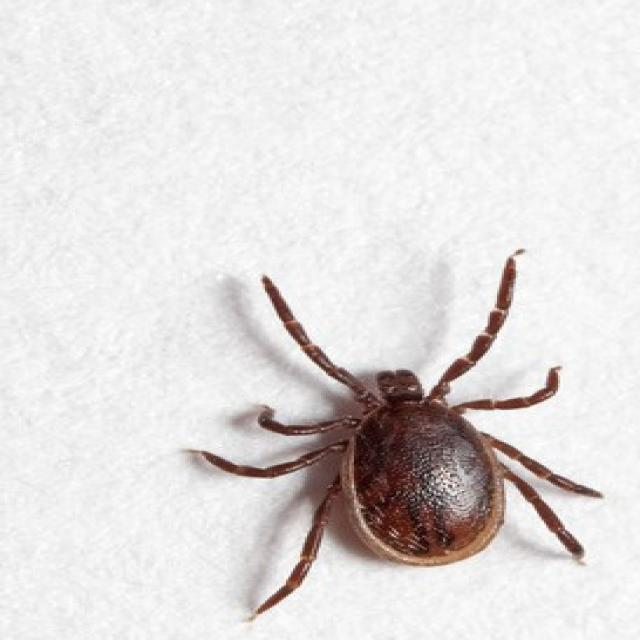Ixodes Ricinus-M: (188, 249, 602, 617)
